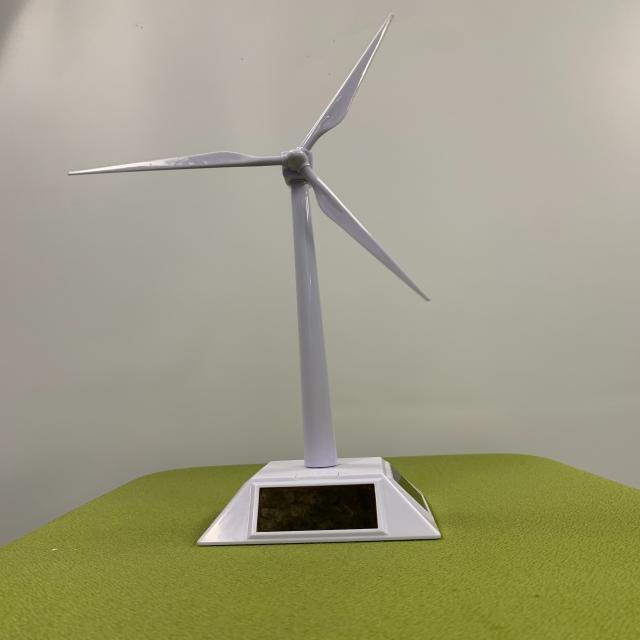solid-blade: (301, 165, 430, 301), (301, 14, 394, 151), (68, 151, 288, 174)
